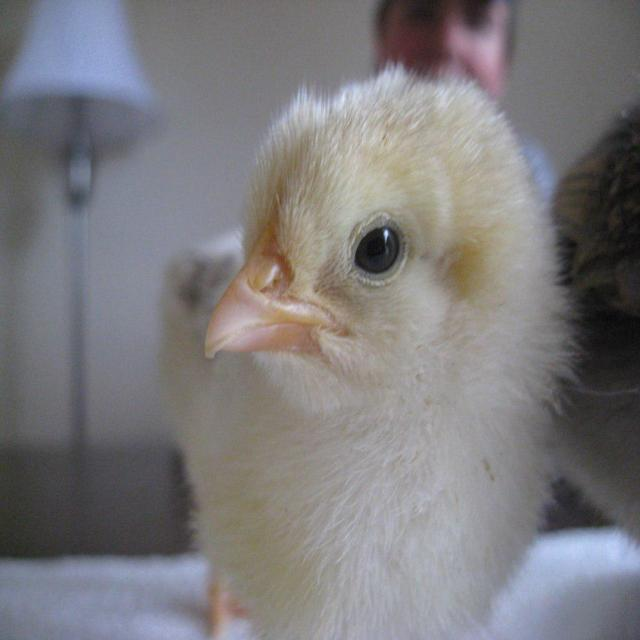Chicken: (143, 51, 607, 640)
